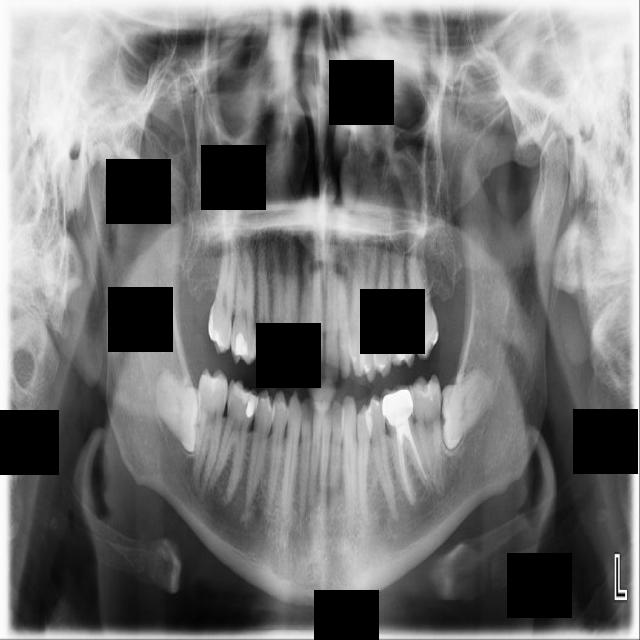52: (408, 373, 443, 424), (227, 317, 261, 366), (380, 384, 414, 428), (227, 379, 258, 427), (386, 323, 415, 370), (413, 310, 438, 361), (362, 392, 388, 440), (346, 328, 368, 379), (358, 333, 378, 383), (373, 329, 392, 378), (254, 327, 273, 374), (271, 328, 288, 377)
73: (381, 412, 437, 510), (616, 609, 624, 615)
BioHorizons Implant: (407, 236, 441, 361)
Biomet 3i Implant: (415, 357, 507, 453)
Blue Sky Bio Implant: (410, 374, 446, 501)
Caries: (206, 232, 238, 357)
Implant: (188, 367, 230, 504)
Keystone Dental Implant: (156, 371, 202, 454)
